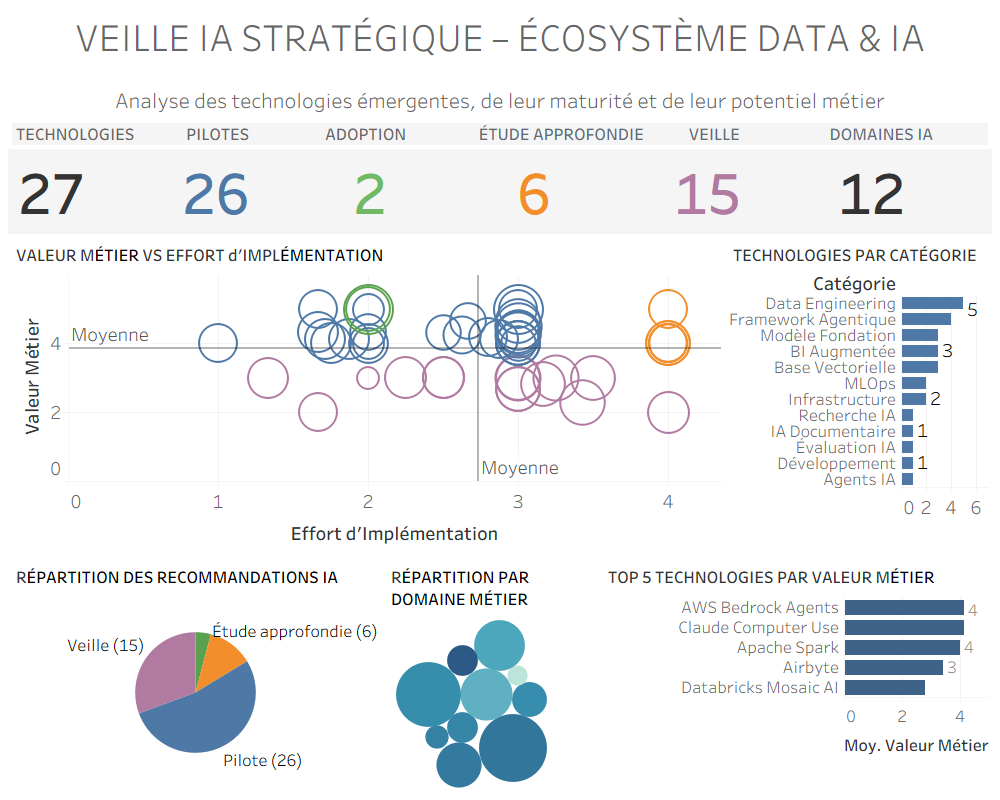

This screenshot's page, from the dashboard's own definition file:
{"tool":"tableau","page":{"name":"Tableau de bord 1","canvas":[1000,800],"ordinal":0},"visuals":[{"type":"text","box":[8,8,984,111]},{"type":"text","box":[8,119,984,30]},{"type":"worksheet","title":"Technologies","mark":"Text","box":[8,149,164,85]},{"type":"worksheet","title":"Pilotes","mark":"Text","box":[172,149,164,85]},{"type":"worksheet","title":"Adoption","mark":"Text","box":[336,149,164,85]},{"type":"worksheet","title":"Étude approfondie","mark":"Text","box":[500,149,164,85]},{"type":"worksheet","title":"Veille","mark":"Text","box":[664,149,164,85]},{"type":"worksheet","title":"Catégories","mark":"Text","box":[828,149,164,85]},{"type":"worksheet","title":"Scatter - Valeur vs Effort","mark":"Automatic","rows":["Valeur Métier"],"cols":["Effort Implémentation"],"box":[8,234,717,322]},{"type":"worksheet","title":"TECHNOLOGIES PAR CATÉGORIE","mark":"Automatic","rows":["Catégorie"],"cols":["Technologie"],"box":[725,234,267,322]},{"type":"worksheet","title":"Répartition des recommandations IA","mark":"Pie","box":[8,556,375,236]},{"type":"worksheet","title":"Répartition par domaine métier","mark":"Circle","box":[383,556,217,236]},{"type":"worksheet","title":"Top 10 technologies par valeur métier","mark":"Automatic","rows":["Technologie"],"cols":["Valeur Métier"],"box":[600,556,392,236]}]}

Visuals, with their boxes in screenshot pixels (x1, y1, x2, y2), scaled from the page's 1000x800 canvas onto the 1000x800 screenshot:
text: crop(8, 8, 992, 119)
text: crop(8, 119, 992, 149)
"Technologies" worksheet (Text marks): crop(8, 149, 172, 234)
"Pilotes" worksheet (Text marks): crop(172, 149, 336, 234)
"Adoption" worksheet (Text marks): crop(336, 149, 500, 234)
"Étude approfondie" worksheet (Text marks): crop(500, 149, 664, 234)
"Veille" worksheet (Text marks): crop(664, 149, 828, 234)
"Catégories" worksheet (Text marks): crop(828, 149, 992, 234)
"Scatter - Valeur vs Effort" worksheet: crop(8, 234, 725, 556)
"TECHNOLOGIES PAR CATÉGORIE" worksheet: crop(725, 234, 992, 556)
"Répartition des recommandations IA" worksheet (Pie marks): crop(8, 556, 383, 792)
"Répartition par domaine métier" worksheet (Circle marks): crop(383, 556, 600, 792)
"Top 10 technologies par valeur métier" worksheet: crop(600, 556, 992, 792)
